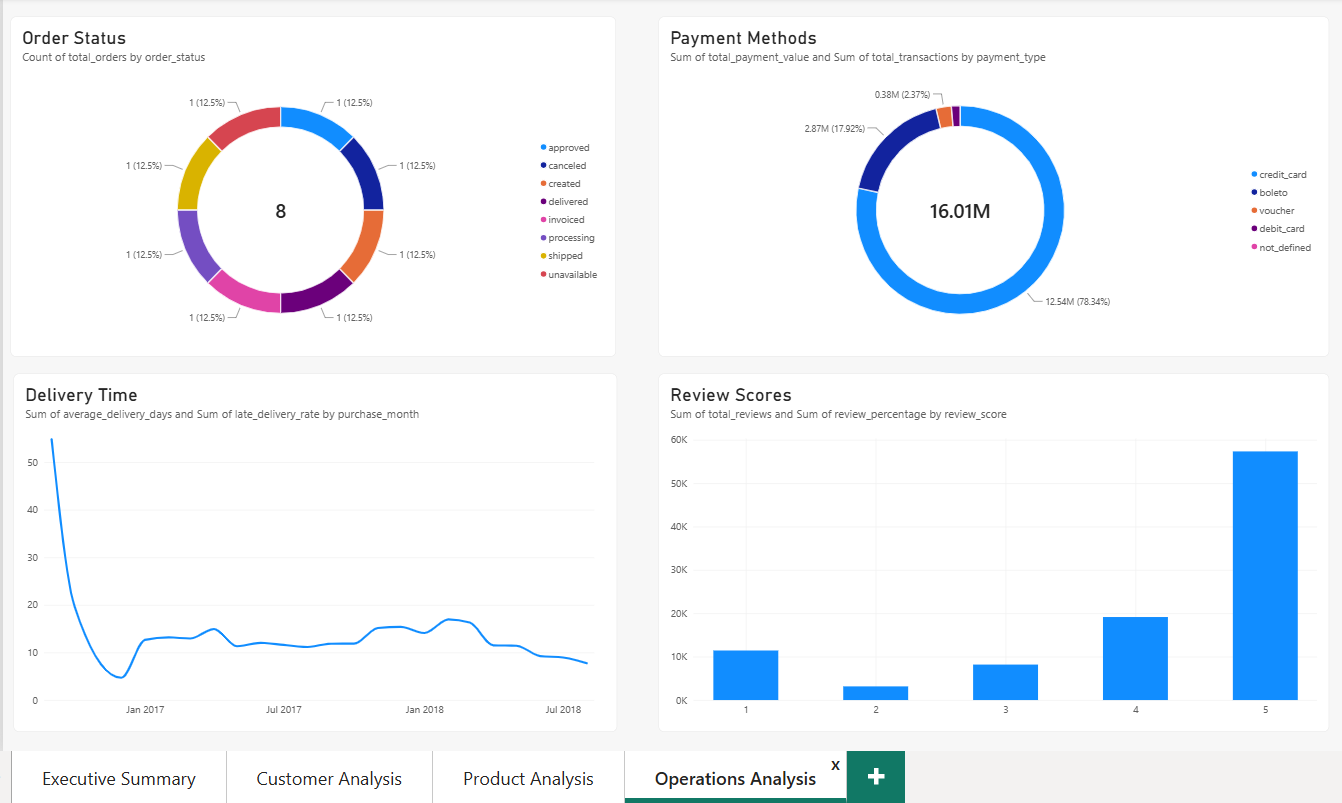

The dashboard page shown, as its layout file describes it:
{"tool":"powerbi","page":{"name":"Operations Analysis","canvas":[1920,1080],"ordinal":3},"visuals":[{"type":"donutChart","title":"Order Status","fields":{"Category":["public vw_order_status.order_status"],"Y":["CountNonNull(public vw_order_status.total_orders)"]},"box":[11.3,28.3,867.4,487.6],"z":0},{"type":"lineChart","title":"Delivery Time","fields":{"Category":["public vw_delivery_performance.purchase_month"],"Y":["Sum(public vw_delivery_performance.average_delivery_days)"]},"box":[14.2,538.6,864.6,513.1],"z":1},{"type":"donutChart","title":"Payment Methods","fields":{"Category":["public vw_payment_methods.payment_type"],"Y":["Sum(public vw_payment_methods.total_payment_value)"]},"box":[938.3,28.3,961,487.6],"z":2},{"type":"clusteredColumnChart","title":"Review Scores","fields":{"Category":["public vw_review_scores.review_score"],"Y":["Sum(public vw_review_scores.total_reviews)"]},"box":[938.3,538.6,961,513.1],"z":3}]}

Visuals, with their boxes on the page's 1920x1080 design canvas (x1, y1, x2, y2). These are canvas units, not pixel positions in the 1342x803 screenshot, which may show the page scaled, cropped or inside an application window:
"Order Status" donutChart: <box>11,28,879,516</box>
"Delivery Time" lineChart: <box>14,539,879,1052</box>
"Payment Methods" donutChart: <box>938,28,1899,516</box>
"Review Scores" clusteredColumnChart: <box>938,539,1899,1052</box>
